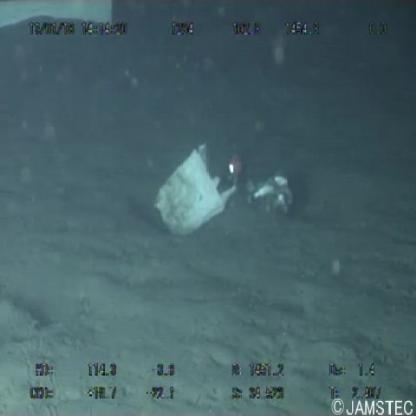Rác: (146, 138, 240, 250)
